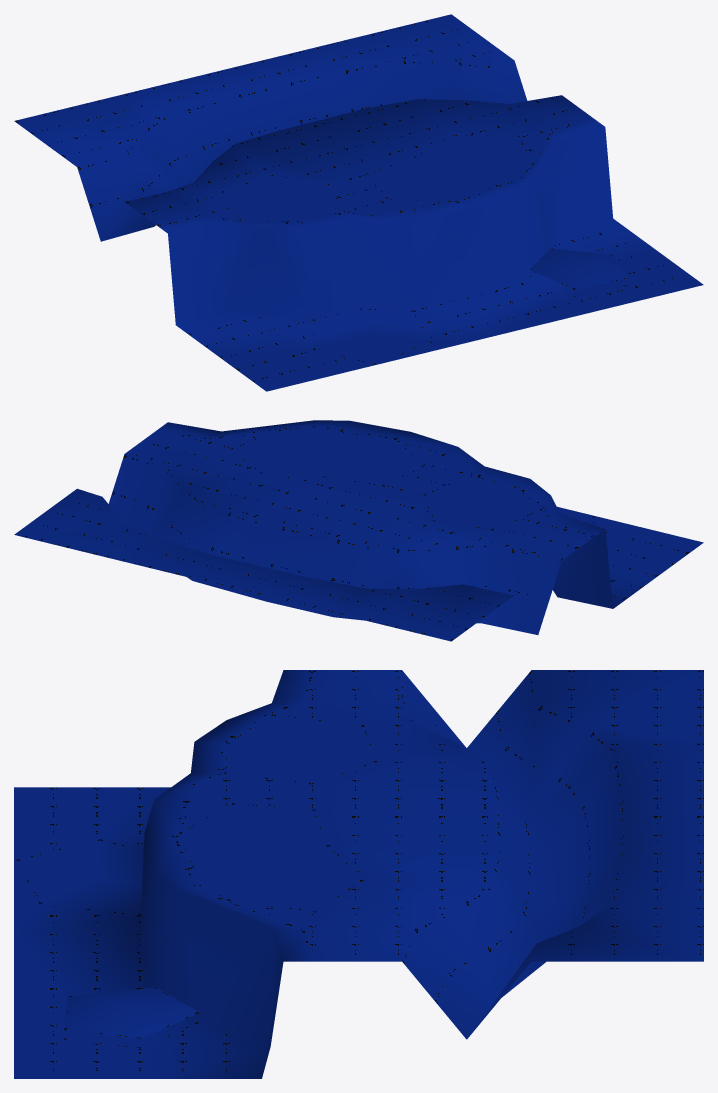
File: GRD_S_C1_R3_2.fbx
The picture shows the model from 3 angles, top to bottom: view 1: azimuth 30°, elevation 25°; view 2: azimuth 150°, elevation 25°; view 3: azimuth 270°, elevation 25°; orthographic projection. The views are drawn at different scales.
Parts seen in each view (by area): view 1: material_00022000, material_00052000, material_C0042000, material_C0032000, material_C0012000, material_C0062000; view 2: material_00022000, material_C0042000, material_C0032000, material_00052000; view 3: material_00022000, material_C0042000, material_C0032000, material_00052000, material_C0012000, material_C0062000.
Part boxes in pixels (x1,y1,x2,y2): material_00022000: (14,14,703,391); material_00052000: (156,118,613,324); material_C0042000: (77,60,527,241); material_C0032000: (220,135,534,364); material_C0012000: (530,248,627,289); material_C0062000: (530,272,627,297); material_00022000: (14,430,703,641); material_C0042000: (103,454,561,634); material_C0032000: (229,427,594,530); material_00052000: (156,420,613,608); material_00022000: (14,670,703,1078); material_C0042000: (400,670,624,1039); material_C0032000: (14,714,378,915); material_00052000: (139,670,315,1076); material_C0012000: (64,987,199,1038); material_C0062000: (64,1017,199,1048).
Size of the model in its own units: 12800 by 2400 by 12800.
